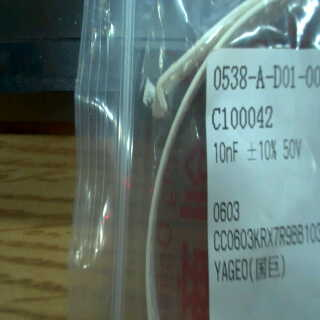10nF: (213, 138, 243, 165)
